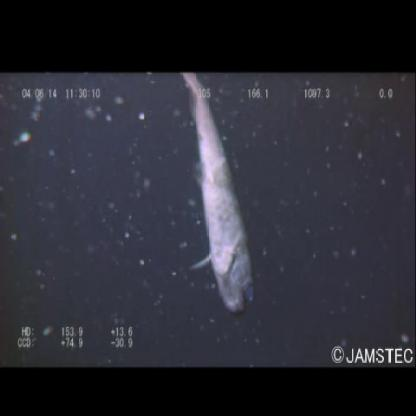Bio: (178, 72, 258, 320)
